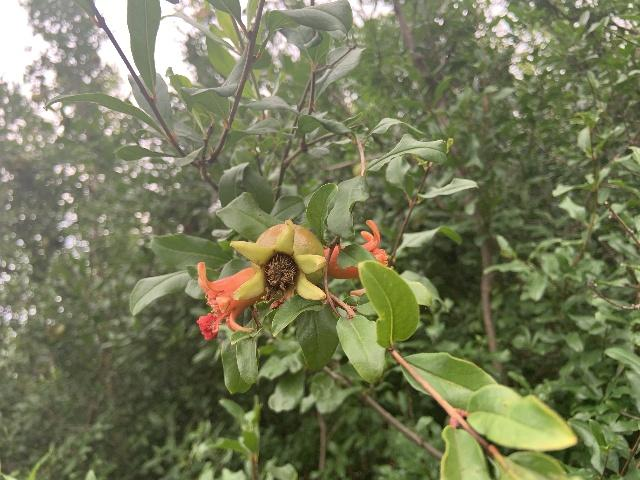early-fruit: (229, 219, 326, 300)
flower: (195, 262, 262, 340), (324, 219, 388, 296)
